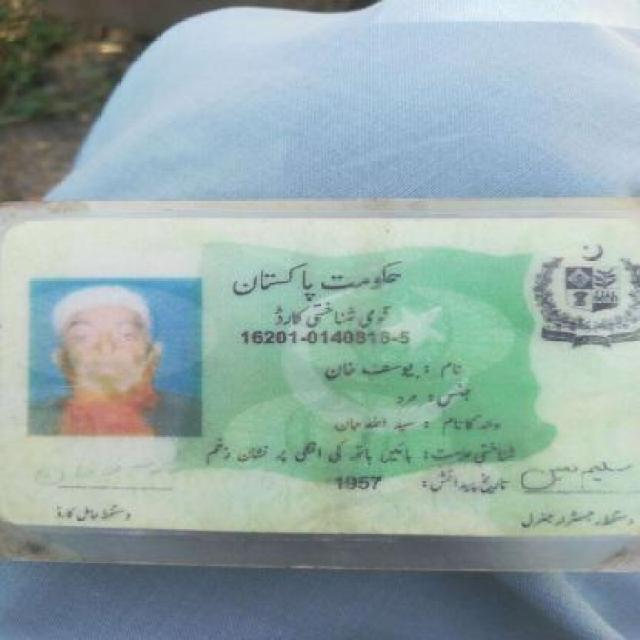Front: (3, 212, 631, 552)
